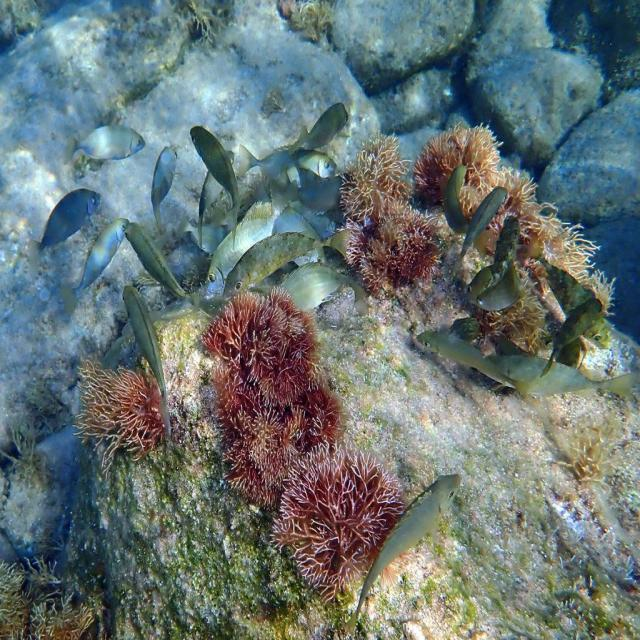Sokar Baligi: (343, 466, 470, 637), (120, 278, 175, 453), (33, 178, 104, 258), (65, 118, 152, 168)
